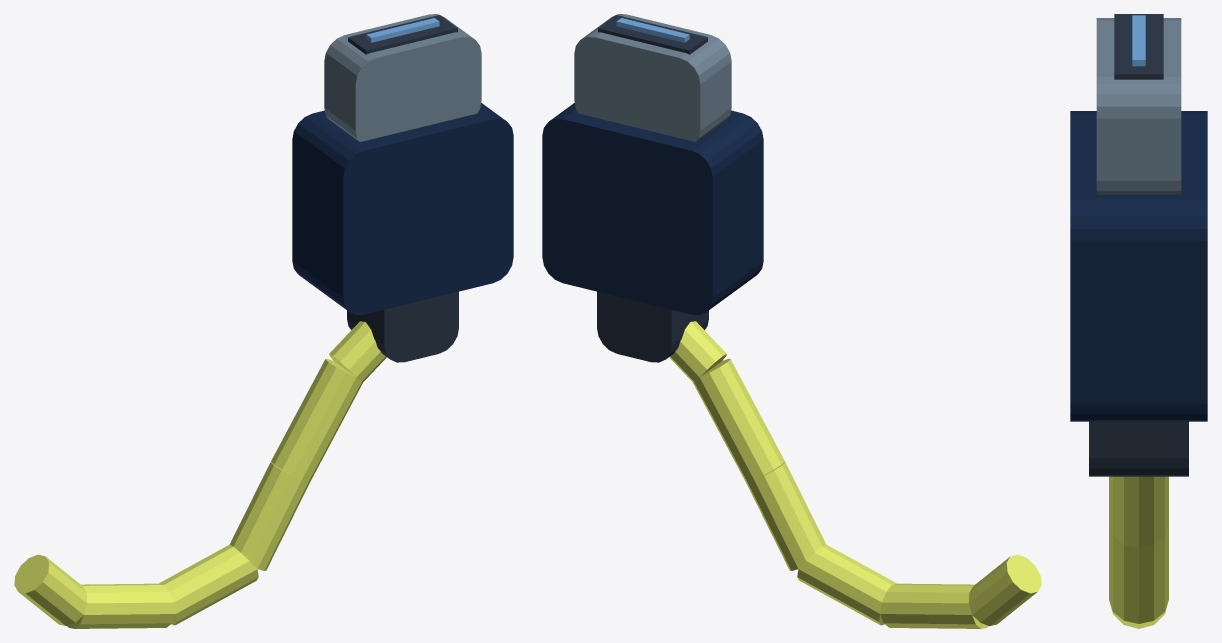
File: usbc.glb
3 renders of one model, left to right at view 1: azimuth 30°, elevation 25°; view 2: azimuth 150°, elevation 25°; view 3: azimuth 270°, elevation 25°, orthographic. The views are drawn at different scales.
Parts seen in each view (by area): view 1: plug sleeve, metal plug, rubber cable4, strain relief, rubber cable3, rubber cable1, rubber cable2, rubber cable0, rubber cable5, plug opening, contact tongue; view 2: plug sleeve, metal plug, rubber cable4, strain relief, rubber cable3, rubber cable1, rubber cable2, rubber cable0, rubber cable5, plug opening, contact tongue; view 3: plug sleeve, metal plug, strain relief, rubber cable3, rubber cable4, plug opening, contact tongue, rubber cable2.
Boxes of the visible parts, x1=… form: plug sleeve: x1=292, y1=103, x2=513, y2=314; metal plug: x1=324, y1=14, x2=481, y2=141; rubber cable4: x1=271, y1=358, x2=362, y2=481; strain relief: x1=347, y1=291, x2=458, y2=362; rubber cable3: x1=230, y1=462, x2=309, y2=570; rubber cable1: x1=67, y1=583, x2=175, y2=628; rubber cable2: x1=159, y1=544, x2=258, y2=625; rubber cable0: x1=14, y1=554, x2=87, y2=626; rubber cable5: x1=329, y1=321, x2=386, y2=381; plug opening: x1=348, y1=15, x2=457, y2=54; contact tongue: x1=366, y1=18, x2=439, y2=42; plug sleeve: x1=542, y1=103, x2=763, y2=314; metal plug: x1=574, y1=14, x2=731, y2=141; rubber cable4: x1=693, y1=358, x2=784, y2=481; strain relief: x1=597, y1=291, x2=708, y2=362; rubber cable3: x1=746, y1=462, x2=825, y2=570; rubber cable1: x1=880, y1=583, x2=988, y2=628; rubber cable2: x1=797, y1=544, x2=896, y2=625; rubber cable0: x1=968, y1=554, x2=1041, y2=626; rubber cable5: x1=669, y1=321, x2=726, y2=381; plug opening: x1=598, y1=15, x2=707, y2=54; contact tongue: x1=616, y1=18, x2=689, y2=42; plug sleeve: x1=1070, y1=111, x2=1207, y2=421; metal plug: x1=1096, y1=18, x2=1181, y2=194; strain relief: x1=1089, y1=421, x2=1188, y2=476; rubber cable3: x1=1109, y1=524, x2=1168, y2=623; rubber cable4: x1=1109, y1=476, x2=1168, y2=547; plug opening: x1=1114, y1=14, x2=1163, y2=79; contact tongue: x1=1132, y1=15, x2=1145, y2=66; rubber cable2: x1=1109, y1=602, x2=1168, y2=628.
Size of the model in its own units: 1.38 by 1.51 by 0.26.
